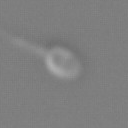normal: (1, 26, 47, 57)
